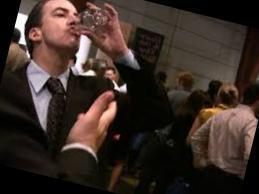Drunk: (43, 2, 81, 48)
